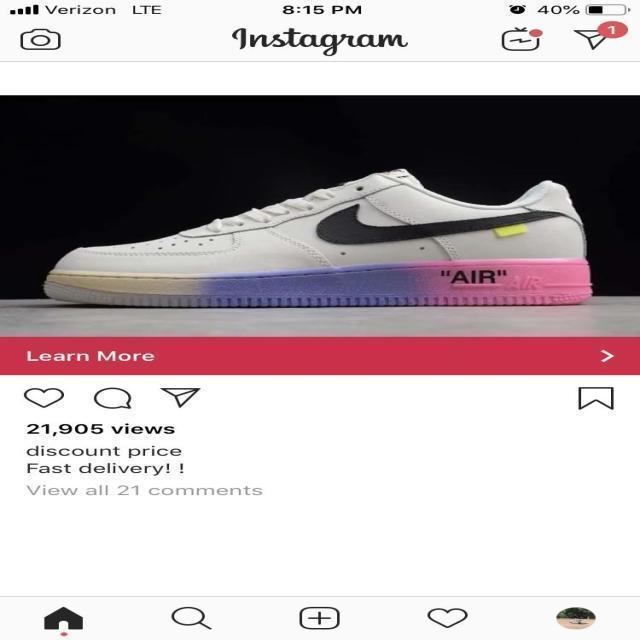shoes: (33, 161, 611, 319)
